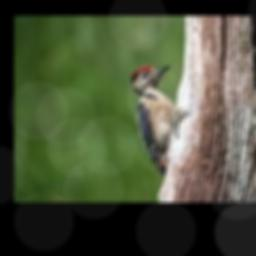Woodpecker: (131, 65, 176, 176)
